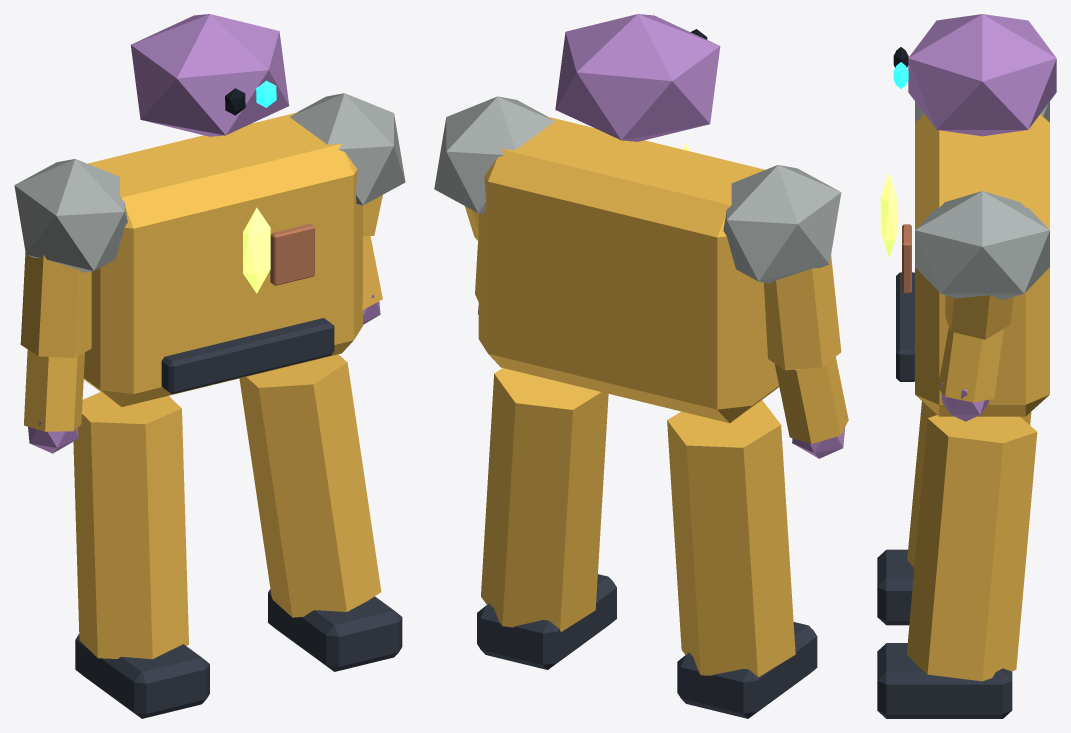
The model's file is npcs_019_seed78877.glb.
The picture shows the model from 3 angles, left to right: view 1: azimuth 30°, elevation 25°; view 2: azimuth 150°, elevation 25°; view 3: azimuth 270°, elevation 25°; orthographic projection. The views are drawn at different scales.
Parts seen in each view (by area): view 1: npcs_019_seed78877; view 2: npcs_019_seed78877; view 3: npcs_019_seed78877.
Boxes of the visible parts, x1,y1,x2,y2 form: npcs_019_seed78877: (14, 14, 405, 718); npcs_019_seed78877: (434, 14, 848, 718); npcs_019_seed78877: (877, 14, 1056, 718).
Bounding box in the file's own units: 1.03 × 1.68 × 0.4278.
